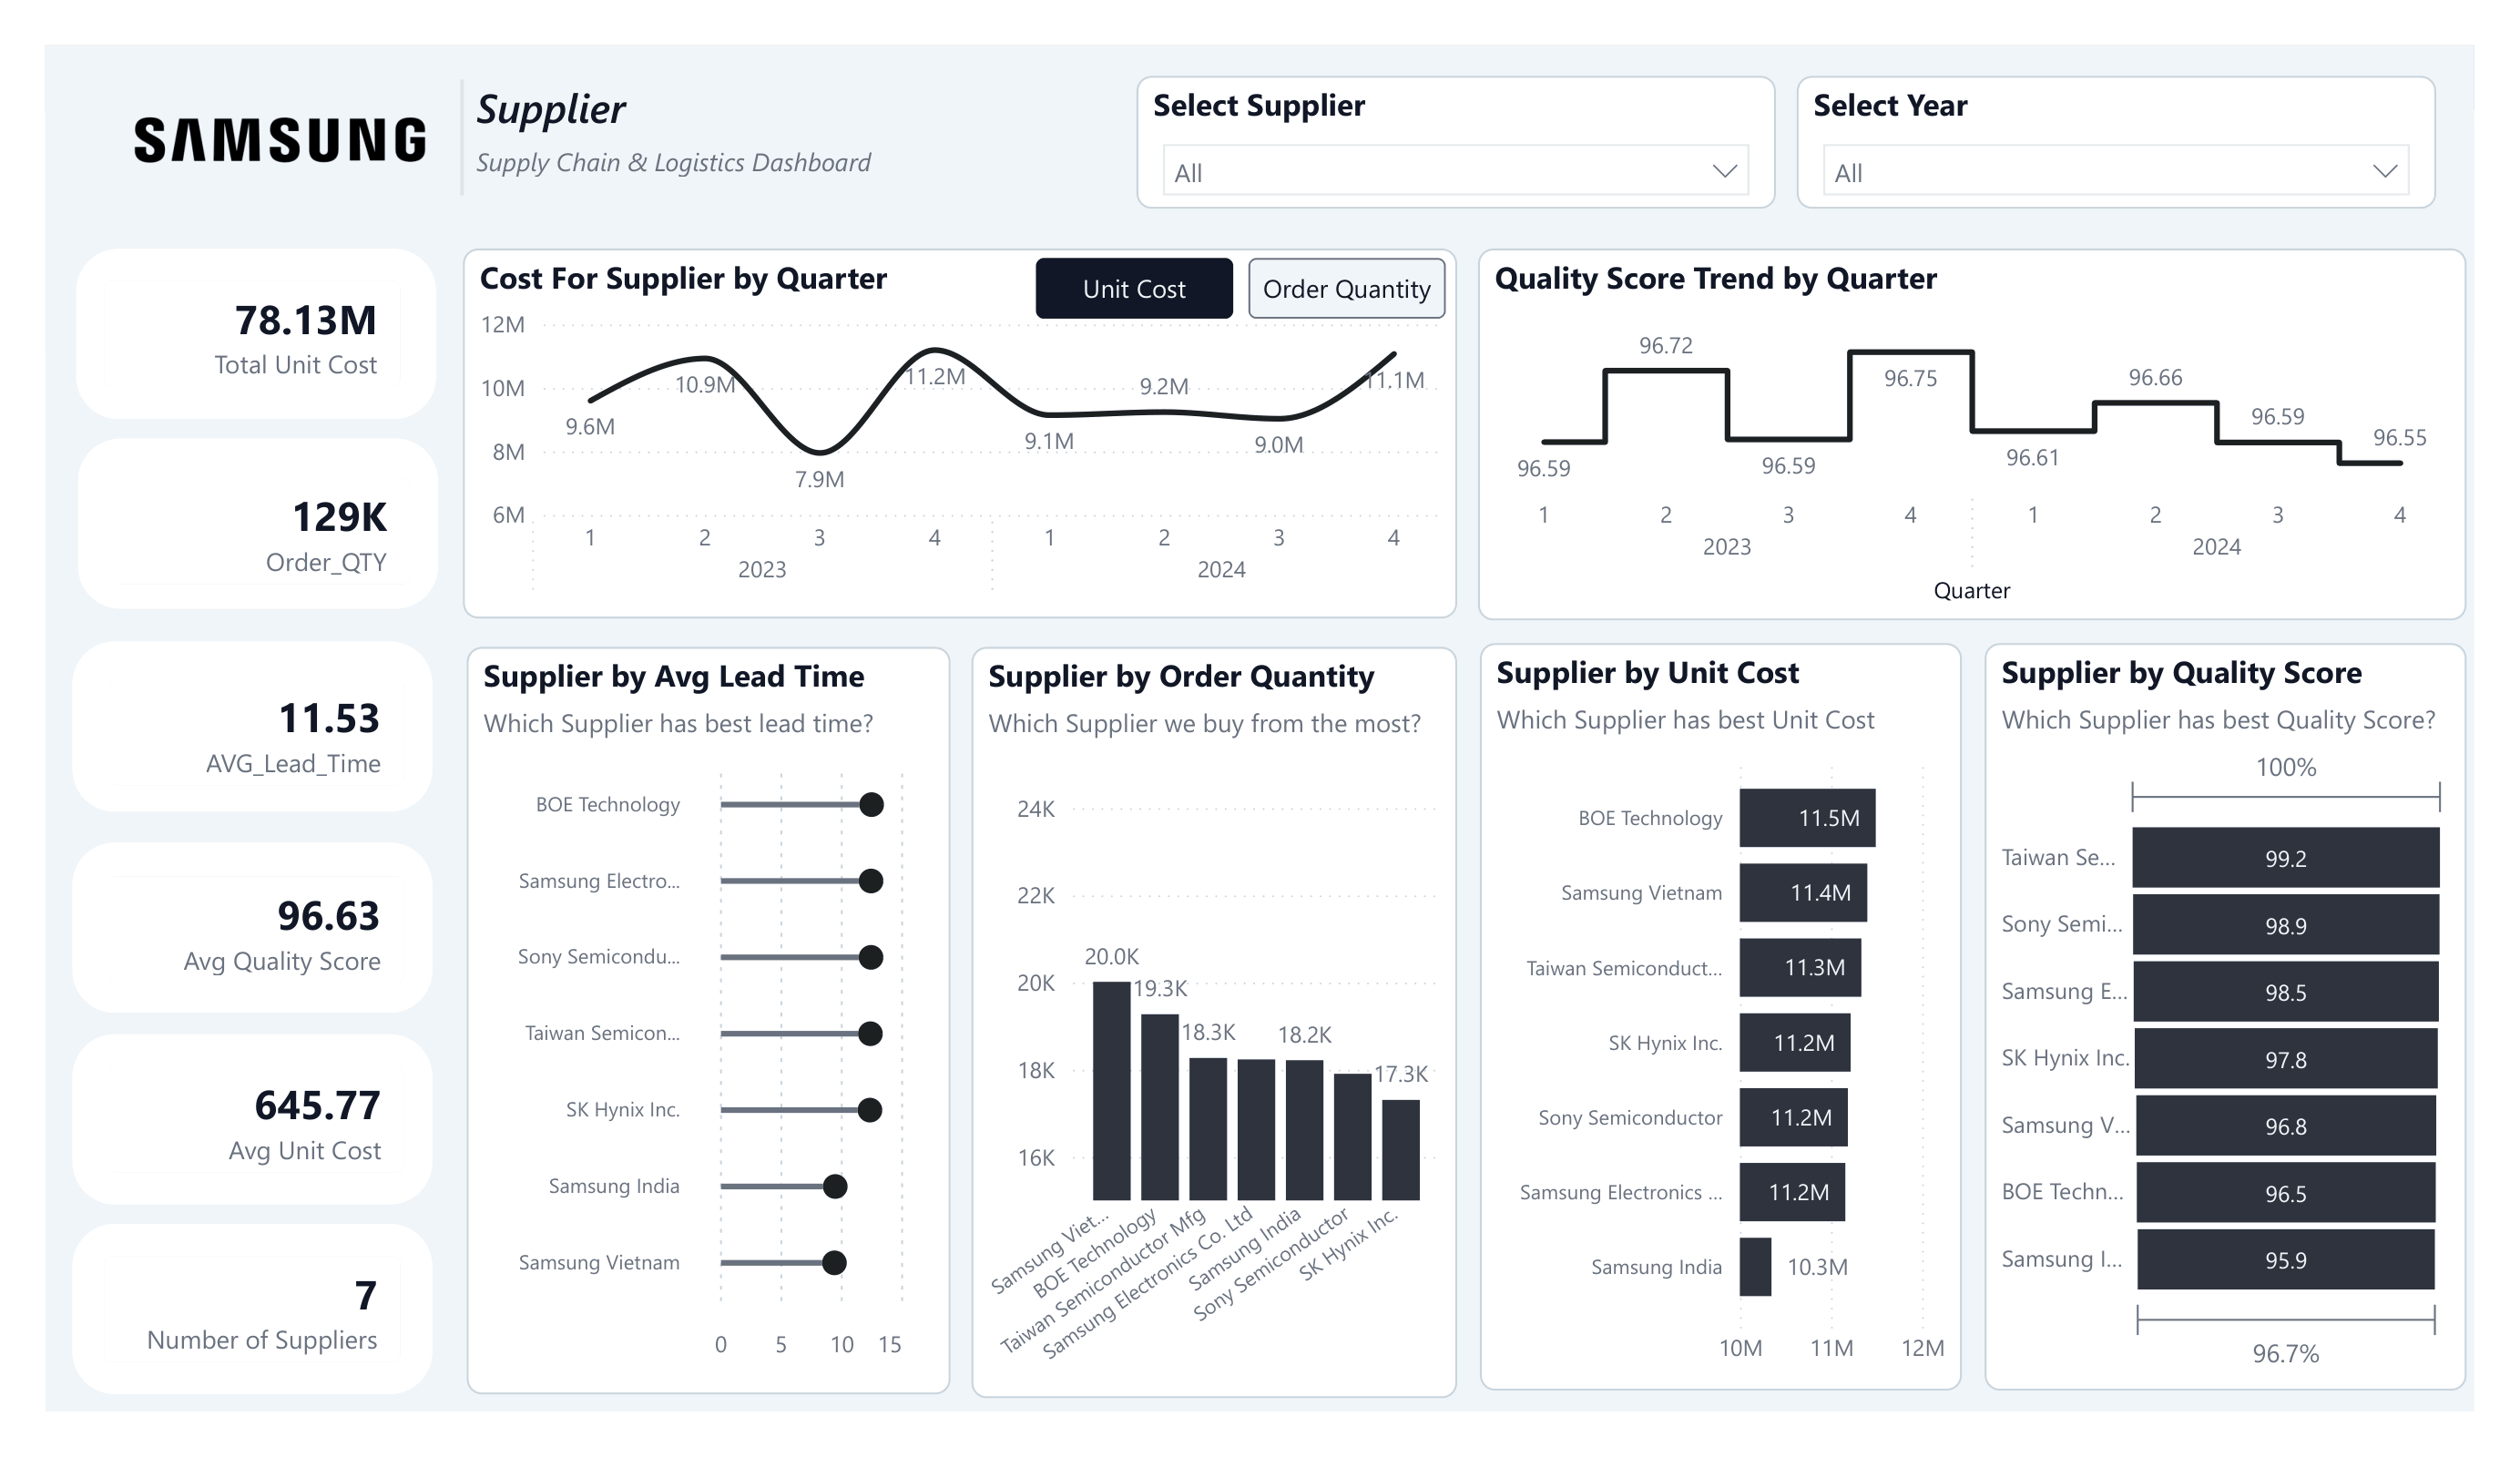

This screenshot's page, from the dashboard's own definition file:
{"tool":"powerbi","page":{"name":"Supplier","canvas":[1280,720],"ordinal":2},"visuals":[{"type":"shape","box":[14.3,621.4,190,90],"z":0},{"type":"shape","box":[14.3,521.4,190,90],"z":1000},{"type":"shape","box":[14.3,420,190,90],"z":2000},{"type":"shape","box":[14.3,314.3,190,90],"z":3000},{"type":"shape","box":[17.1,207.1,190,90],"z":4000},{"type":"shape","box":[15.7,107.1,190,90],"z":5000},{"type":"shape","title":"Supplier","box":[227.4,18.3,221.3,61.1],"z":6000},{"type":"shape","box":[166.3,18.3,106.4,61.1],"z":7000},{"type":"image","box":[35.5,13.5,170,72.1],"z":8000},{"type":"cardVisual","fields":{"Data":["MeasuresTable.Order_QTY"]},"box":[18.6,211.4,190,90],"z":9000},{"type":"cardVisual","fields":{"Data":["MeasuresTable.AVG_Lead_Time"]},"box":[15.7,317.1,190,90],"z":10000},{"type":"cardVisual","fields":{"Data":["MeasuresTable.Avg Unit Cost"]},"box":[15.7,521.4,190,90],"z":11000},{"type":"cardVisual","fields":{"Data":["MeasuresTable.Avg Quality Score"]},"box":[15.7,421.4,190,90],"z":12000},{"type":"cardVisual","fields":{"Data":["CountNonNull(dim_supplier.supplier_id)"]},"box":[14.3,621.4,190,90],"z":13000},{"type":"lollipopBarChart29115F0ADEDB437DBCDF8E8A3E66E088","title":"Supplier by Avg Lead Time","fields":{"axis":["dim_supplier.supplier_name"],"values":["MeasuresTable.AVG_Lead_Time"]},"box":[222,317.3,254.6,393.3],"z":14000},{"type":"cardVisual","fields":{"Data":["MeasuresTable.Total Unit Cost"]},"box":[14.3,107.1,190,90],"z":15000},{"type":"clusteredColumnChart","title":"Supplier by Order Quantity","fields":{"Category":["dim_supplier.supplier_name"],"Y":["MeasuresTable.Order_QTY"]},"box":[488.2,317.3,255.8,395.7],"z":16000},{"type":"clusteredBarChart","title":"Supplier by Unit Cost","fields":{"Category":["dim_supplier.supplier_name"],"Y":["MeasuresTable.Total Unit Cost"]},"box":[755.6,314.9,254.6,394.5],"z":17000},{"type":"lineChart","title":"Quality Score Trend by Quarter","fields":{"Y":["Avg(fact_procurement.quality_score)"],"Category":["dim_date.year","dim_date.quarter"]},"box":[755.2,107.4,521.2,195.4],"z":18000},{"type":"group","id":"g1","title":"Group 1","box":[219.6,107.4,523.6,195.4],"z":19000},{"type":"lineChart","title":"Cost For Supplier by Quarter","fields":{"Y":["MeasuresTable.Total Unit Cost"],"Category":["dim_date.year","dim_date.quarter"]},"box":[219.6,107.4,523.6,195.4],"z":19000,"group":"g1"},{"type":"funnel","title":"Supplier by Quality Score","fields":{"Category":["dim_supplier.supplier_name"],"Y":["Avg(dim_supplier.avg_quality_score)"]},"box":[1021.9,314.9,254.6,394.5],"z":20000},{"type":"advancedSlicerVisual","fields":{"Values":["Cost_Qty_Supplier.Cost_Qty_Supplier"]},"box":[516.4,107.4,226.8,42.3],"z":20001,"group":"g1"},{"type":"slicer","title":"Select Year","fields":{"Values":["dim_date.date.Variation.Date Hierarchy.Year","dim_date.date.Variation.Date Hierarchy.Quarter","dim_date.date.Variation.Date Hierarchy.Month","dim_date.date.Variation.Date Hierarchy.Day"]},"box":[922.9,15.7,336.6,70],"z":21000},{"type":"slicer","title":"Select Supplier","fields":{"Values":["dim_supplier.supplier_name"]},"box":[575.5,15.7,336.6,70],"z":22000}]}

Visuals, with their boxes on the page's 1280x720 design canvas (x1, y1, x2, y2). These are canvas units, not pixel positions in the 2520x1457 screenshot, which may show the page scaled, cropped or inside an application window:
shape: select_region(14, 621, 204, 711)
shape: select_region(14, 521, 204, 611)
shape: select_region(14, 420, 204, 510)
shape: select_region(14, 314, 204, 404)
shape: select_region(17, 207, 207, 297)
shape: select_region(16, 107, 206, 197)
"Supplier" shape: select_region(227, 18, 449, 79)
shape: select_region(166, 18, 273, 79)
image: select_region(36, 14, 206, 86)
cardVisual - MeasuresTable.Order_QTY: select_region(19, 211, 209, 301)
cardVisual - MeasuresTable.AVG_Lead_Time: select_region(16, 317, 206, 407)
cardVisual - MeasuresTable.Avg Unit Cost: select_region(16, 521, 206, 611)
cardVisual - MeasuresTable.Avg Quality Score: select_region(16, 421, 206, 511)
cardVisual - CountNonNull(dim_supplier.supplier_id): select_region(14, 621, 204, 711)
"Supplier by Avg Lead Time" lollipopBarChart29115F0ADEDB437DBCDF8E8A3E66E088: select_region(222, 317, 477, 711)
cardVisual - MeasuresTable.Total Unit Cost: select_region(14, 107, 204, 197)
"Supplier by Order Quantity" clusteredColumnChart: select_region(488, 317, 744, 713)
"Supplier by Unit Cost" clusteredBarChart: select_region(756, 315, 1010, 709)
"Quality Score Trend by Quarter" lineChart: select_region(755, 107, 1276, 303)
"Group 1" group: select_region(220, 107, 743, 303)
"Cost For Supplier by Quarter" lineChart: select_region(220, 107, 743, 303)
"Supplier by Quality Score" funnel: select_region(1022, 315, 1276, 709)
advancedSlicerVisual - Cost_Qty_Supplier.Cost_Qty_Supplier: select_region(516, 107, 743, 150)
"Select Year" slicer: select_region(923, 16, 1260, 86)
"Select Supplier" slicer: select_region(576, 16, 912, 86)
